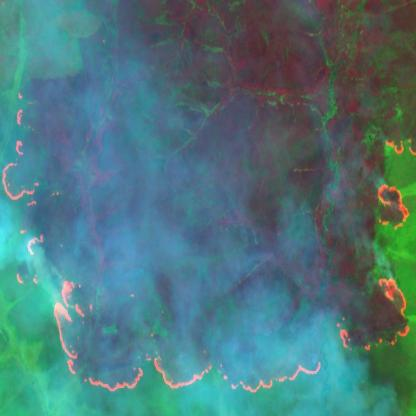fire: (0, 86, 416, 416)
